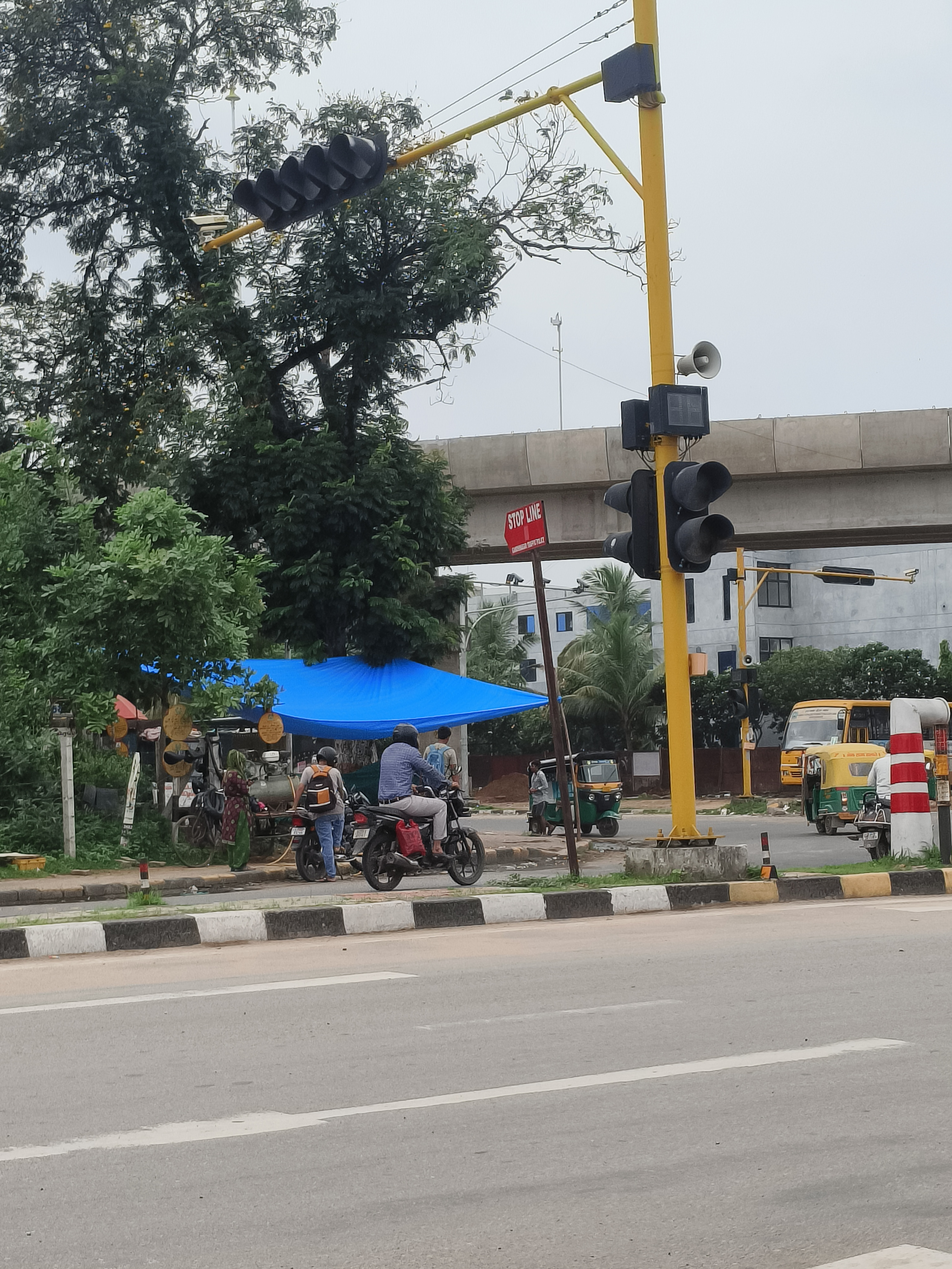BikeWithRider: (353, 718, 490, 896), (284, 739, 361, 888)
Helmet: (385, 720, 424, 756), (311, 742, 342, 772)
